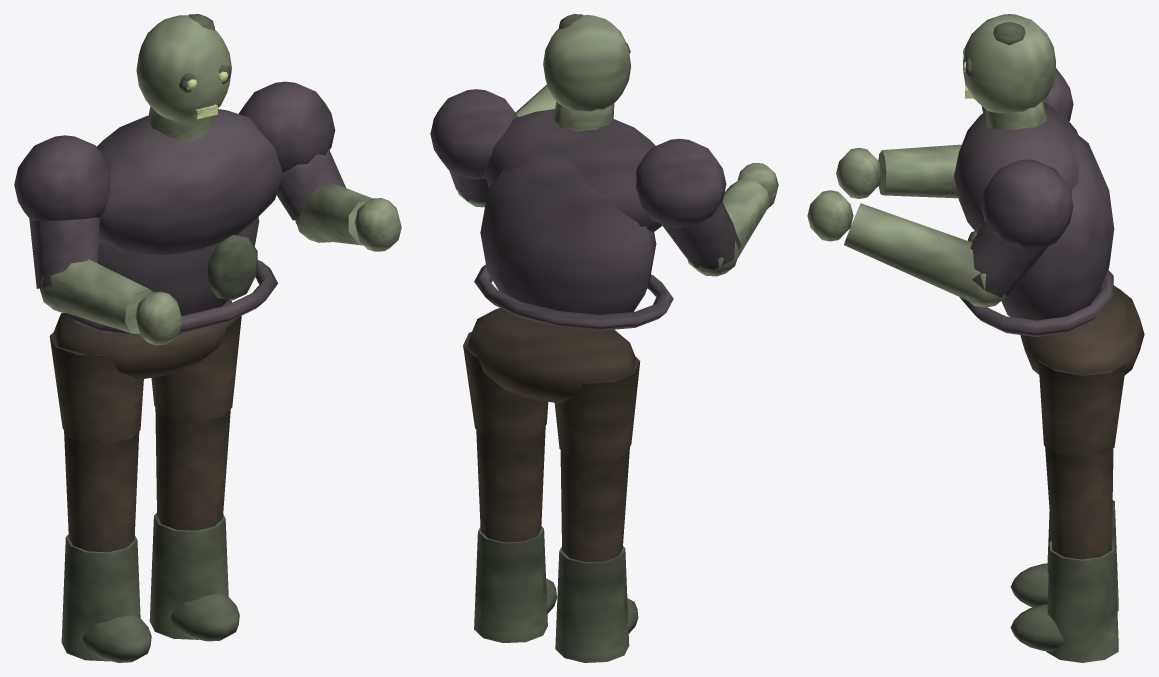
The model's file is zombie.obj.
3 views of the same model, side by side, from view 1: azimuth 30°, elevation 25°; view 2: azimuth 150°, elevation 25°; view 3: azimuth 270°, elevation 25° (orthographic). The views are drawn at different scales.
Size of the model in its own units: 2.95 by 5.89 by 2.95.
Materials: 1 (1 with a texture image).
